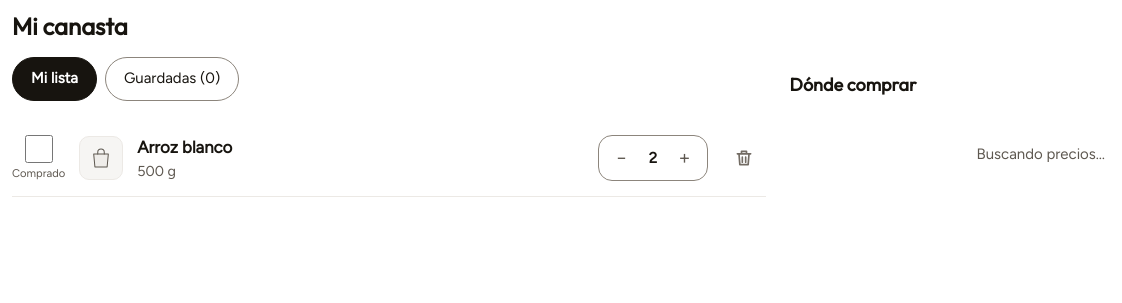
Test: mi canasta › cada producto se ve con su presentación y su cantidad, y se cambia con − y +
Check: the text "500 g" is shown, box [137,162,176,180]
Click the button named "Agregar uno de Arroz blanco" at (685, 158), box [663,136,707,180]
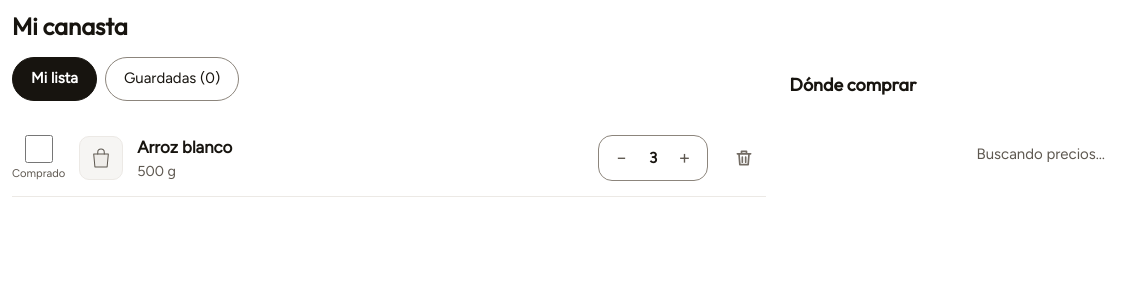
Check: the text "3" is shown, box [649,148,657,166]
Click the button named "Quitar uno de Arroz blanco" at (621, 158), box [599,136,643,180]
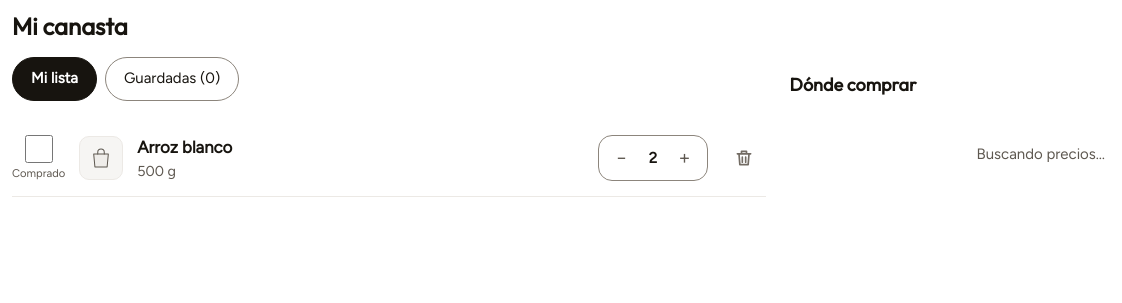
Click the button named "Quitar uno de Arroz blanco" at (621, 158), box [599,136,643,180]
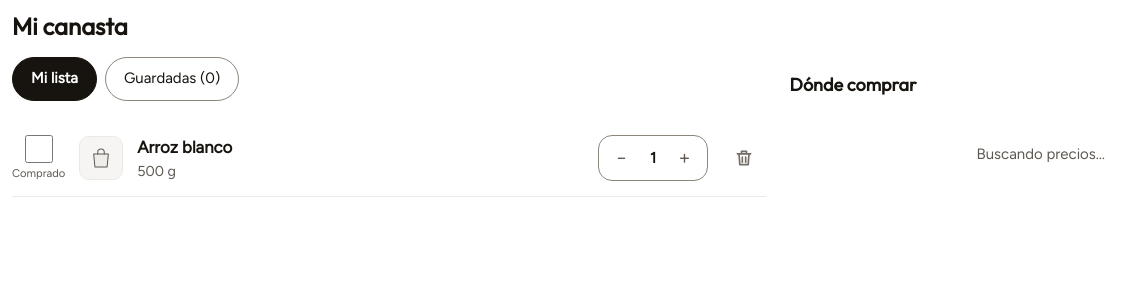
Click the button named "Quitar uno de Arroz blanco" at (621, 158), box [599,136,643,180]
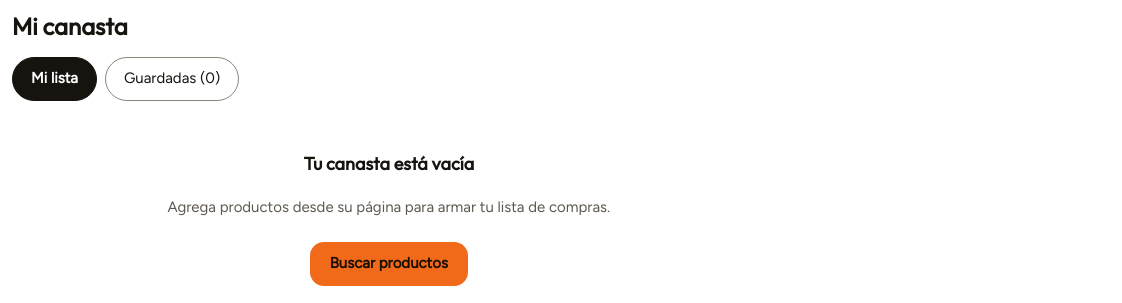
Check: the heading "Tu canasta está vacía" is shown, box [303,153,474,174]
